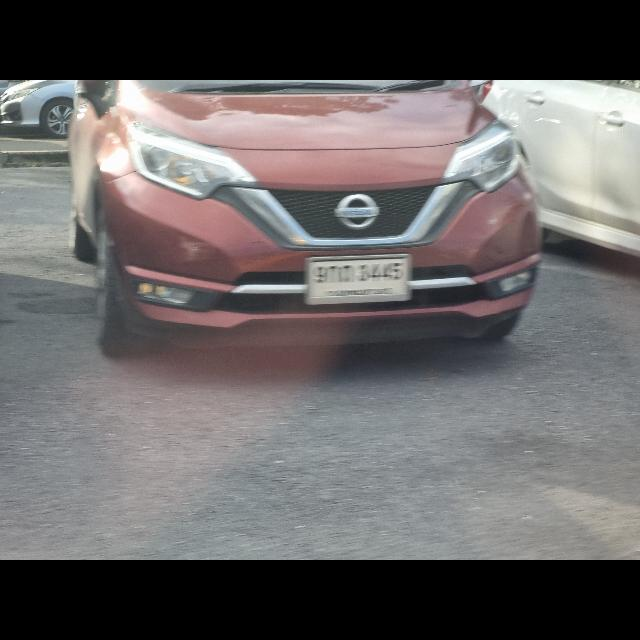licenseplate: (302, 255, 414, 307)
